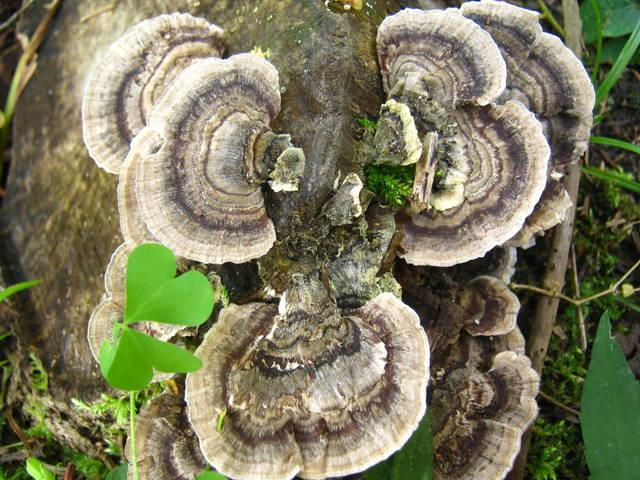poisonous_mushroom: (370, 0, 595, 268), (182, 272, 431, 479), (115, 50, 288, 265), (426, 269, 565, 480), (80, 11, 227, 175)
